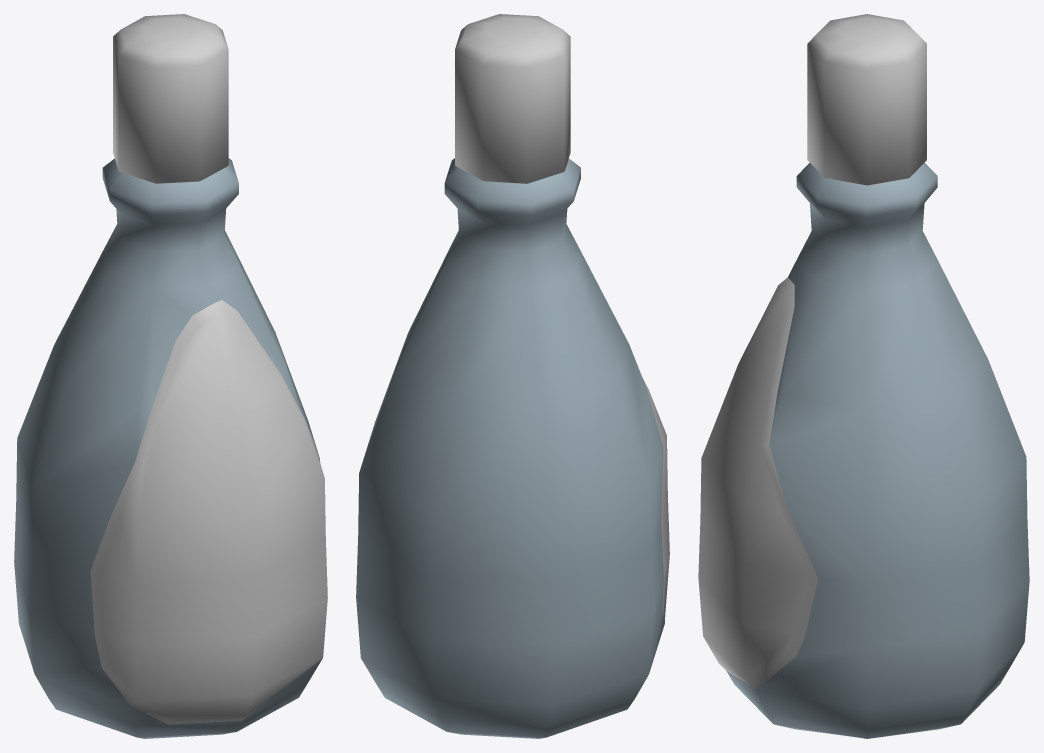
File: Odontol.fbx
3 renders of one model, left to right at view 1: azimuth 30°, elevation 25°; view 2: azimuth 150°, elevation 25°; view 3: azimuth 270°, elevation 25°, orthographic.
Parts seen in each view (by area): view 1: OdontolBottle; view 2: OdontolBottle; view 3: OdontolBottle.
Part boxes in pixels (x1,y1,x2,y2): OdontolBottle: (14, 14, 327, 738); OdontolBottle: (356, 14, 669, 738); OdontolBottle: (698, 14, 1029, 738).
Bounding box in the file's own units: 207 × 471 × 211.
